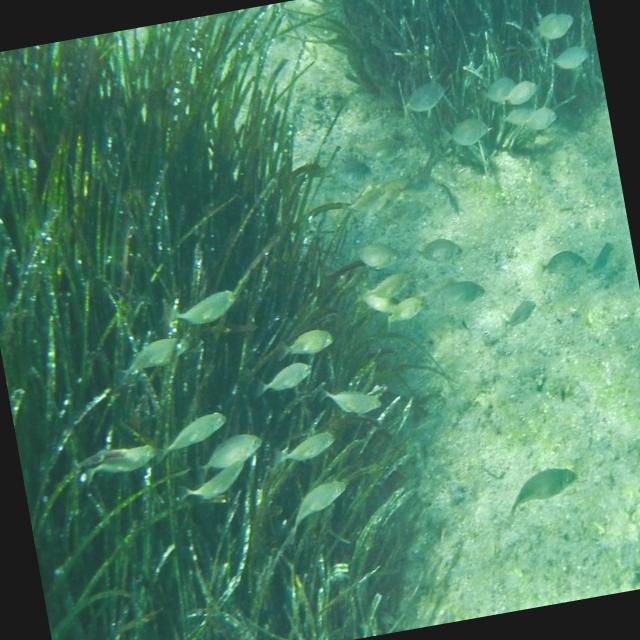Sokar Baligi: (494, 449, 588, 534), (70, 426, 163, 500), (163, 280, 245, 334), (432, 109, 496, 162), (394, 69, 452, 123), (518, 4, 582, 51)
